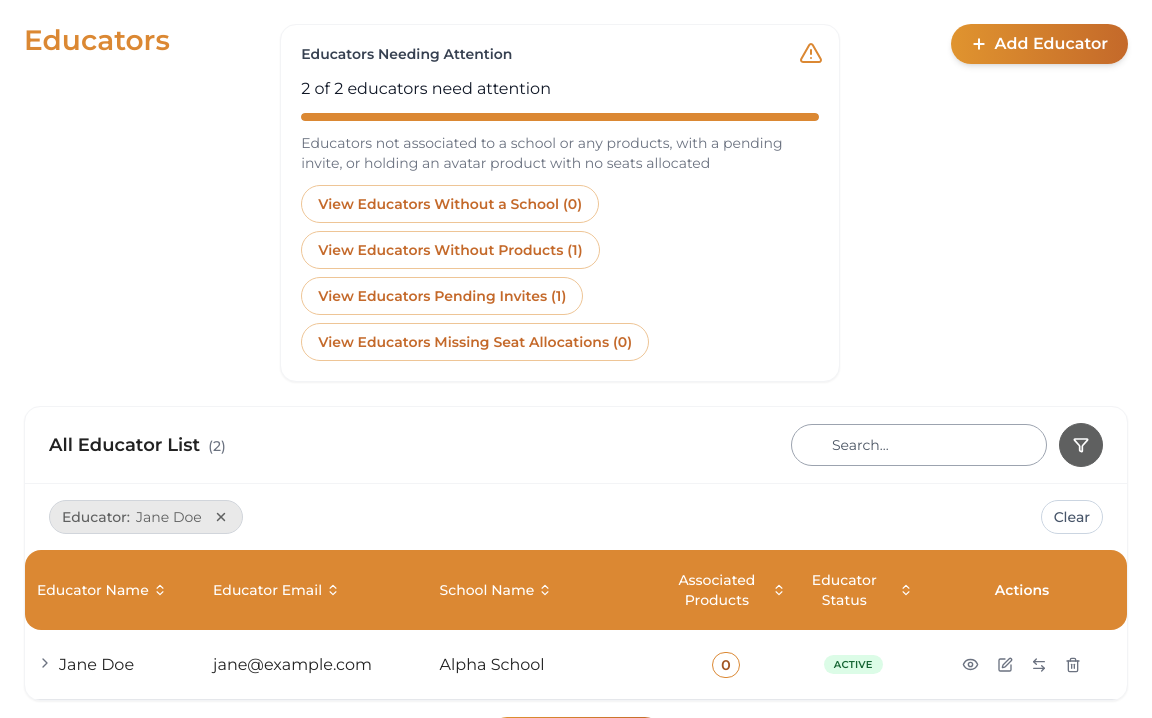
Test case: Notification Applied Filter › should remove individual filter when X button is clicked
The image size is (1152, 718).
Expected: the text "Educator:" is shown, [62,507,130,527]
Click the button named "remove educator filter": (221, 517) [212,508,230,526]
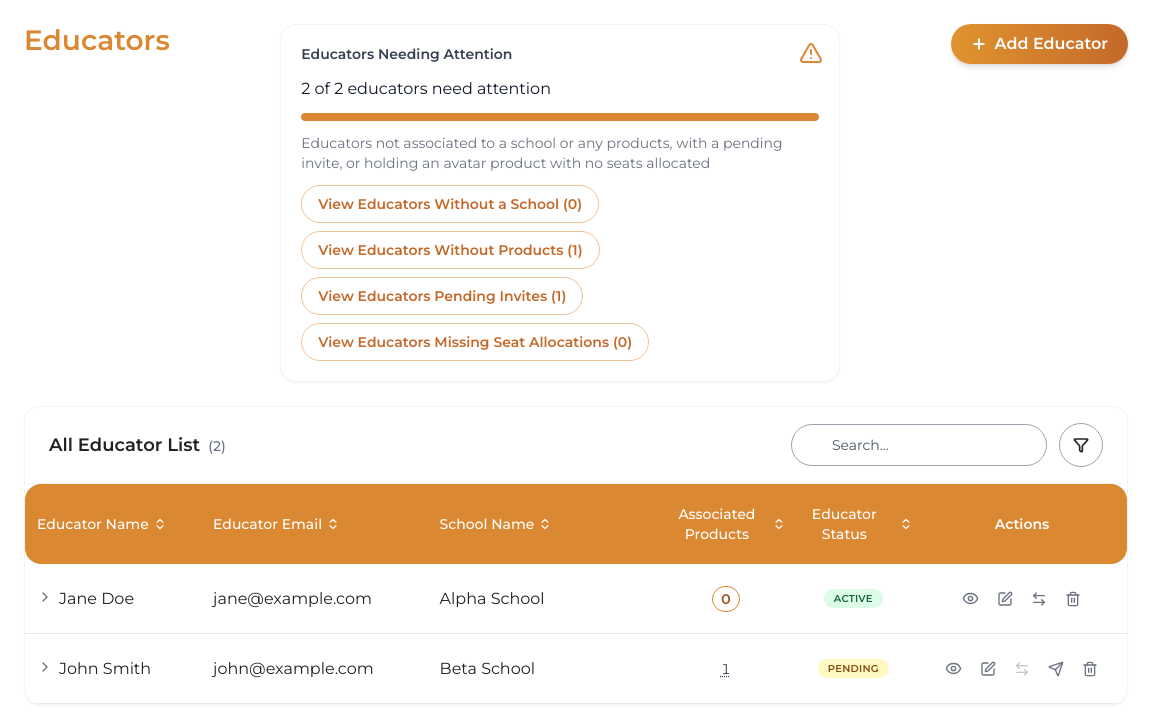
Expected: the text "Jane Doe" is shown, [59,586,134,610]
Expected: the text "Educator:" is gone
Expected: the text "John Smith" is shown, [59,656,151,680]
